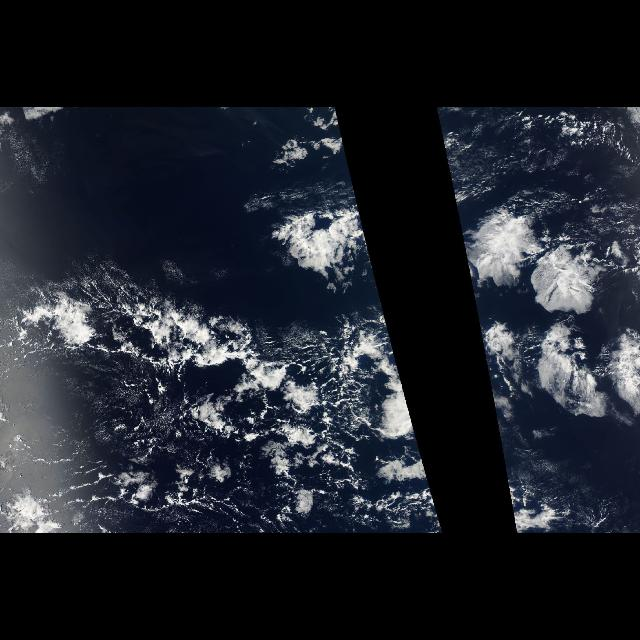Fish: (12, 272, 384, 500)
Flower: (446, 173, 640, 482), (271, 173, 429, 482)
